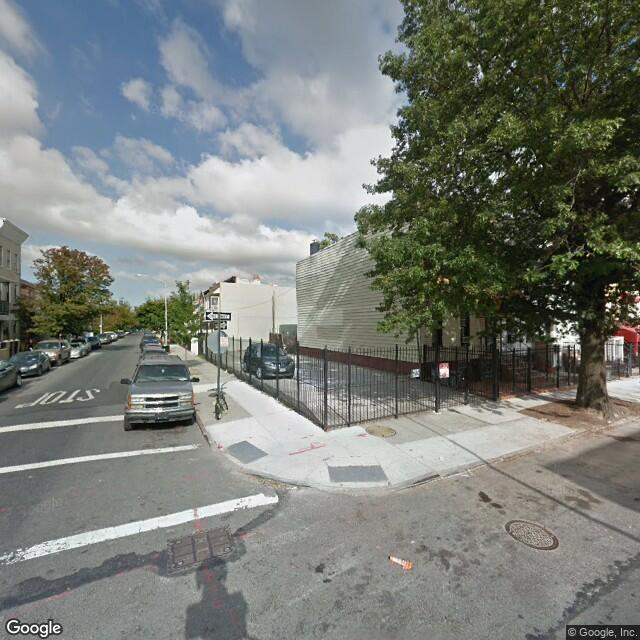litter: (385, 550, 414, 571), (604, 411, 616, 423)
